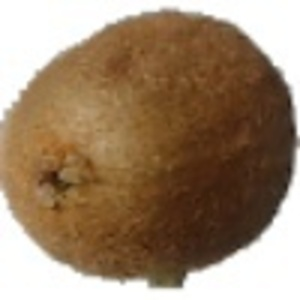kiwi: (1, 7, 300, 291)
